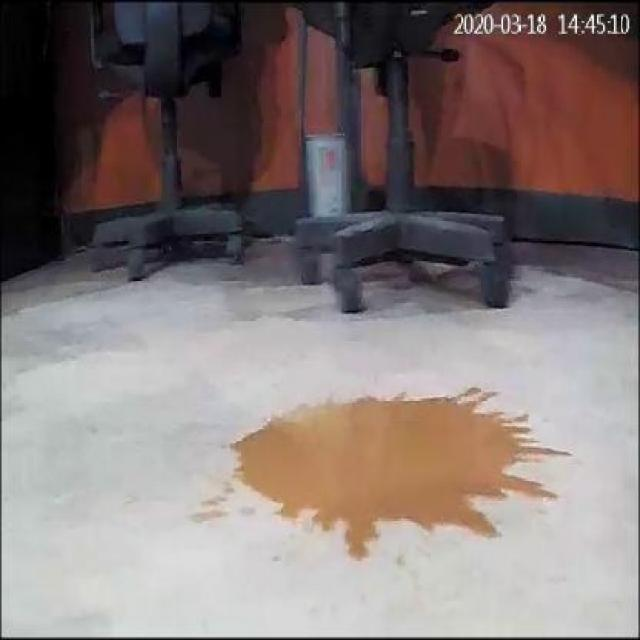spill: (230, 376, 575, 562)
